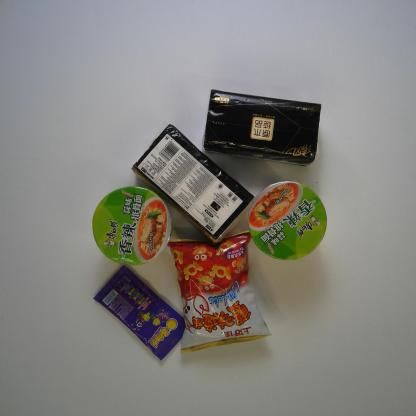Candy: (90, 261, 193, 361)
Instant Noodles: (89, 183, 177, 269), (246, 180, 331, 264)
Puffed Food: (166, 228, 274, 357)
Tissue: (130, 120, 260, 247), (197, 88, 324, 168)
